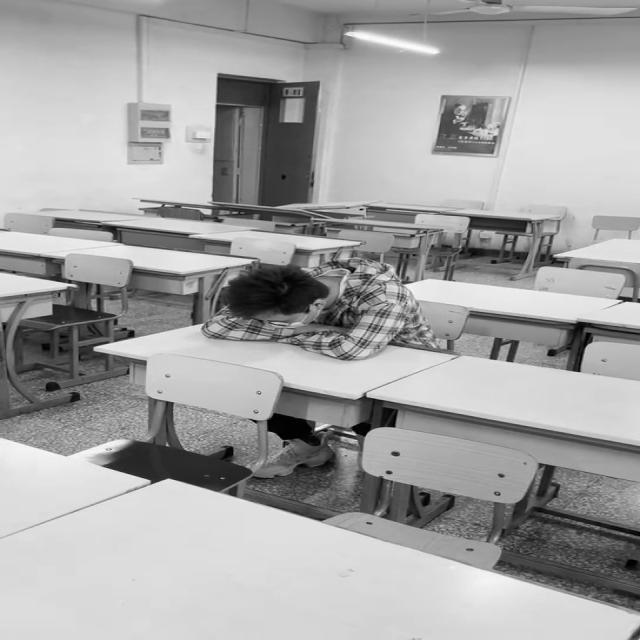sleep: (199, 258, 426, 359)
